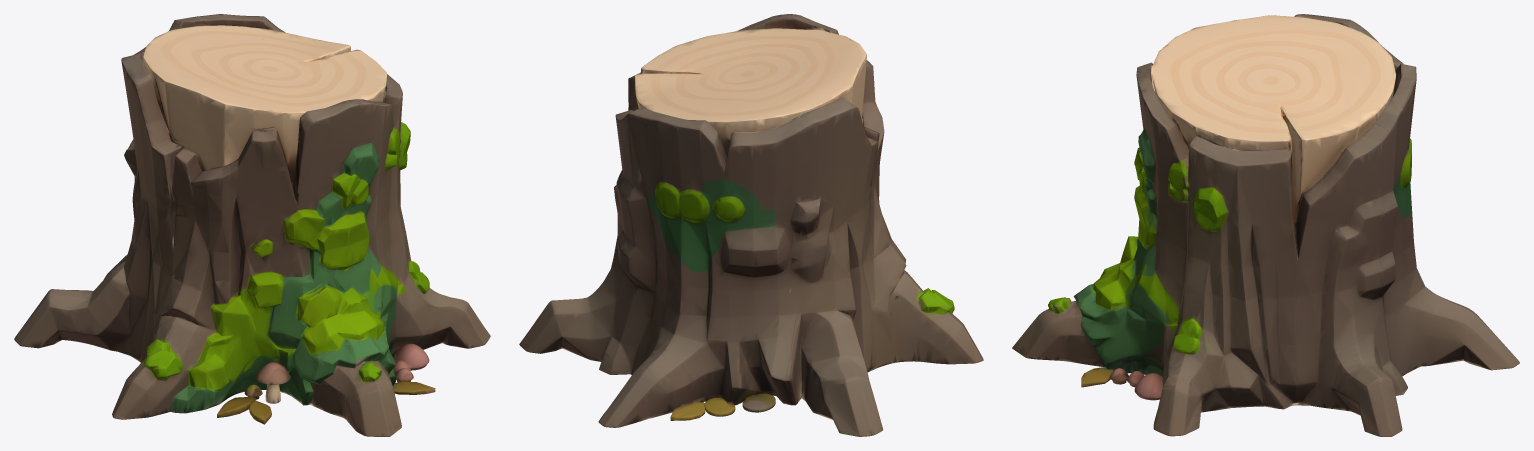
The model's file is stump-a.glb.
3 views of the same model, side by side, from view 1: azimuth 30°, elevation 25°; view 2: azimuth 150°, elevation 25°; view 3: azimuth 270°, elevation 25° (orthographic).
Parts seen in each view (by area): view 1: node_0; view 2: node_0; view 3: node_0.
Part boxes in pixels (left/top/right/bottom): node_0: left=14, top=14, right=490, bottom=436; node_0: left=519, top=14, right=983, bottom=436; node_0: left=1012, top=14, right=1519, bottom=436.
Size of the model in its own units: 0.8514 by 0.6301 by 1.01.
1 material, 1 textured.
